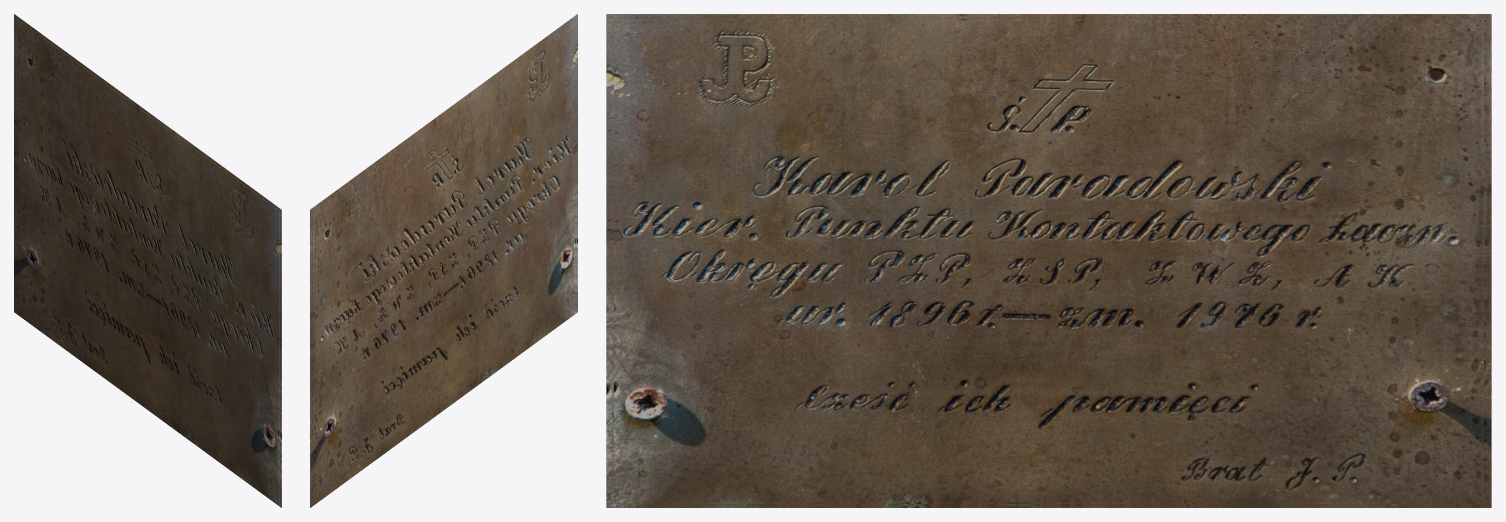
File: 108. Karol PARADOWSKI.glb
The picture shows the model from 3 angles, left to right: view 1: azimuth 30°, elevation 25°; view 2: azimuth 150°, elevation 25°; view 3: azimuth 270°, elevation 25°; orthographic projection. The views are drawn at different scales.
Parts seen in each view (by area): view 1: Plane; view 2: Plane; view 3: Plane.
Boxes of the visible parts, x1,y1,x2,y2 form: Plane: (14, 14, 281, 507); Plane: (310, 14, 577, 507); Plane: (606, 14, 1491, 507).
Bounding box in the file's own units: 0.0246 × 8 × 13.
1 material, 1 textured.
